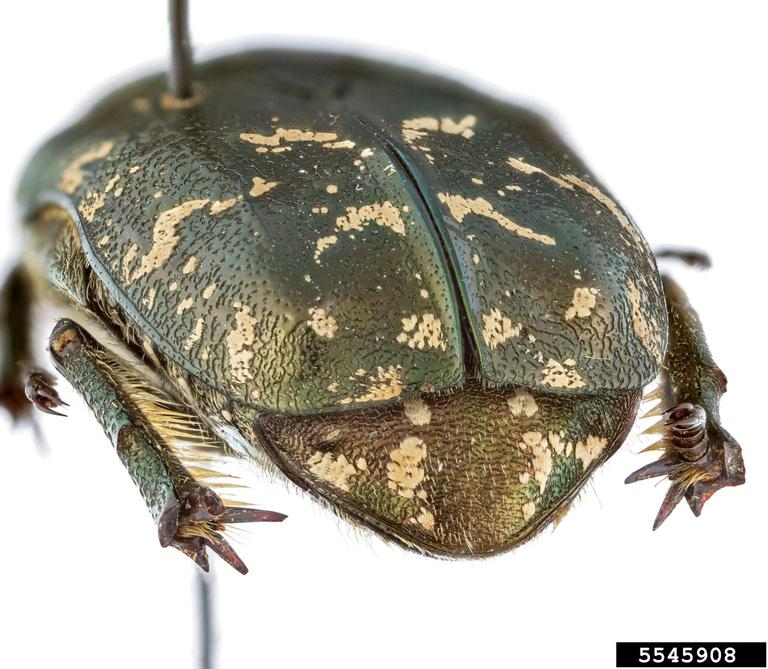Protaetia_metallica: (5, 31, 744, 623)
